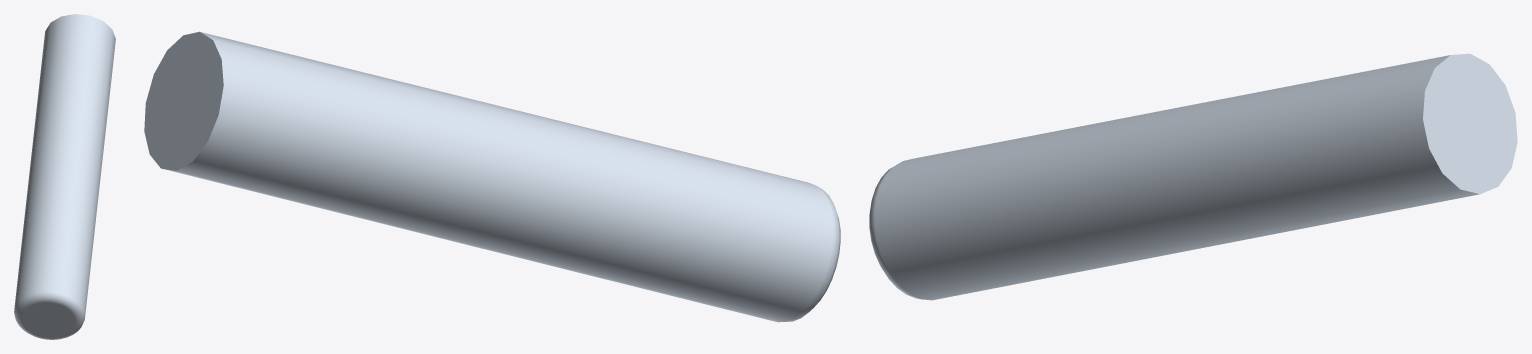
File: RB-018_viewer.glb
3 views of the same model, side by side, from view 1: azimuth 30°, elevation 25°; view 2: azimuth 150°, elevation 25°; view 3: azimuth 270°, elevation 25° (orthographic). The views are drawn at different scales.
Parts seen in each view (by area): view 1: basebody_imported1; view 2: basebody_imported1; view 3: basebody_imported1.
Boxes of the visible parts, <box> form: basebody_imported1: <box>14,14,115,339</box>; basebody_imported1: <box>144,31,840,322</box>; basebody_imported1: <box>869,53,1517,300</box>.
Size of the model in its own units: 0.00713 by 0.006 by 0.00906.
